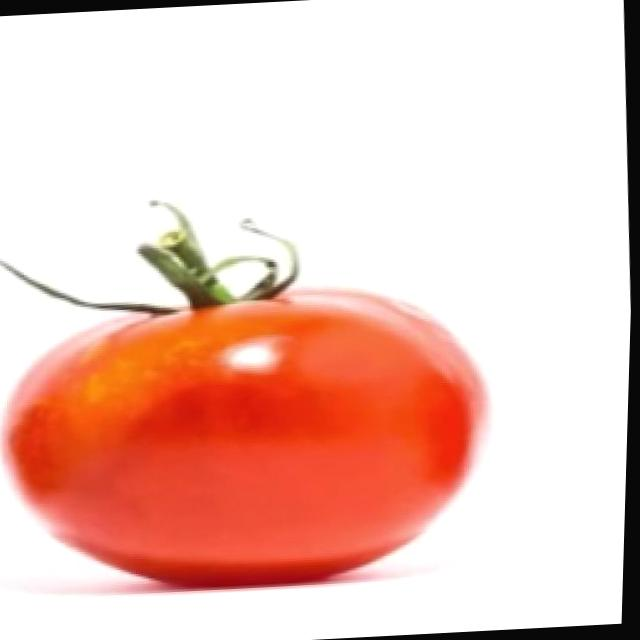tomato: (4, 278, 504, 602)
